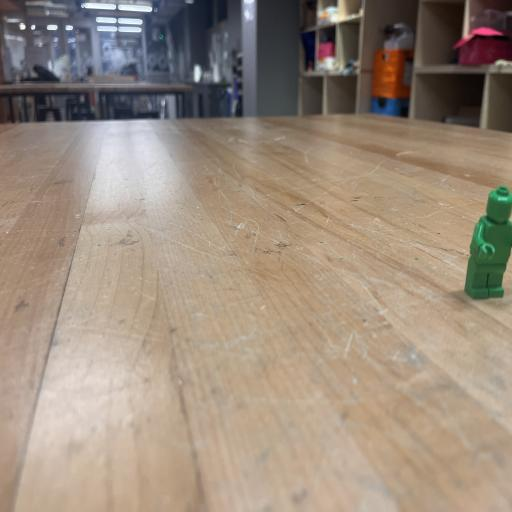Lego-Minifig: (465, 186, 512, 298)
